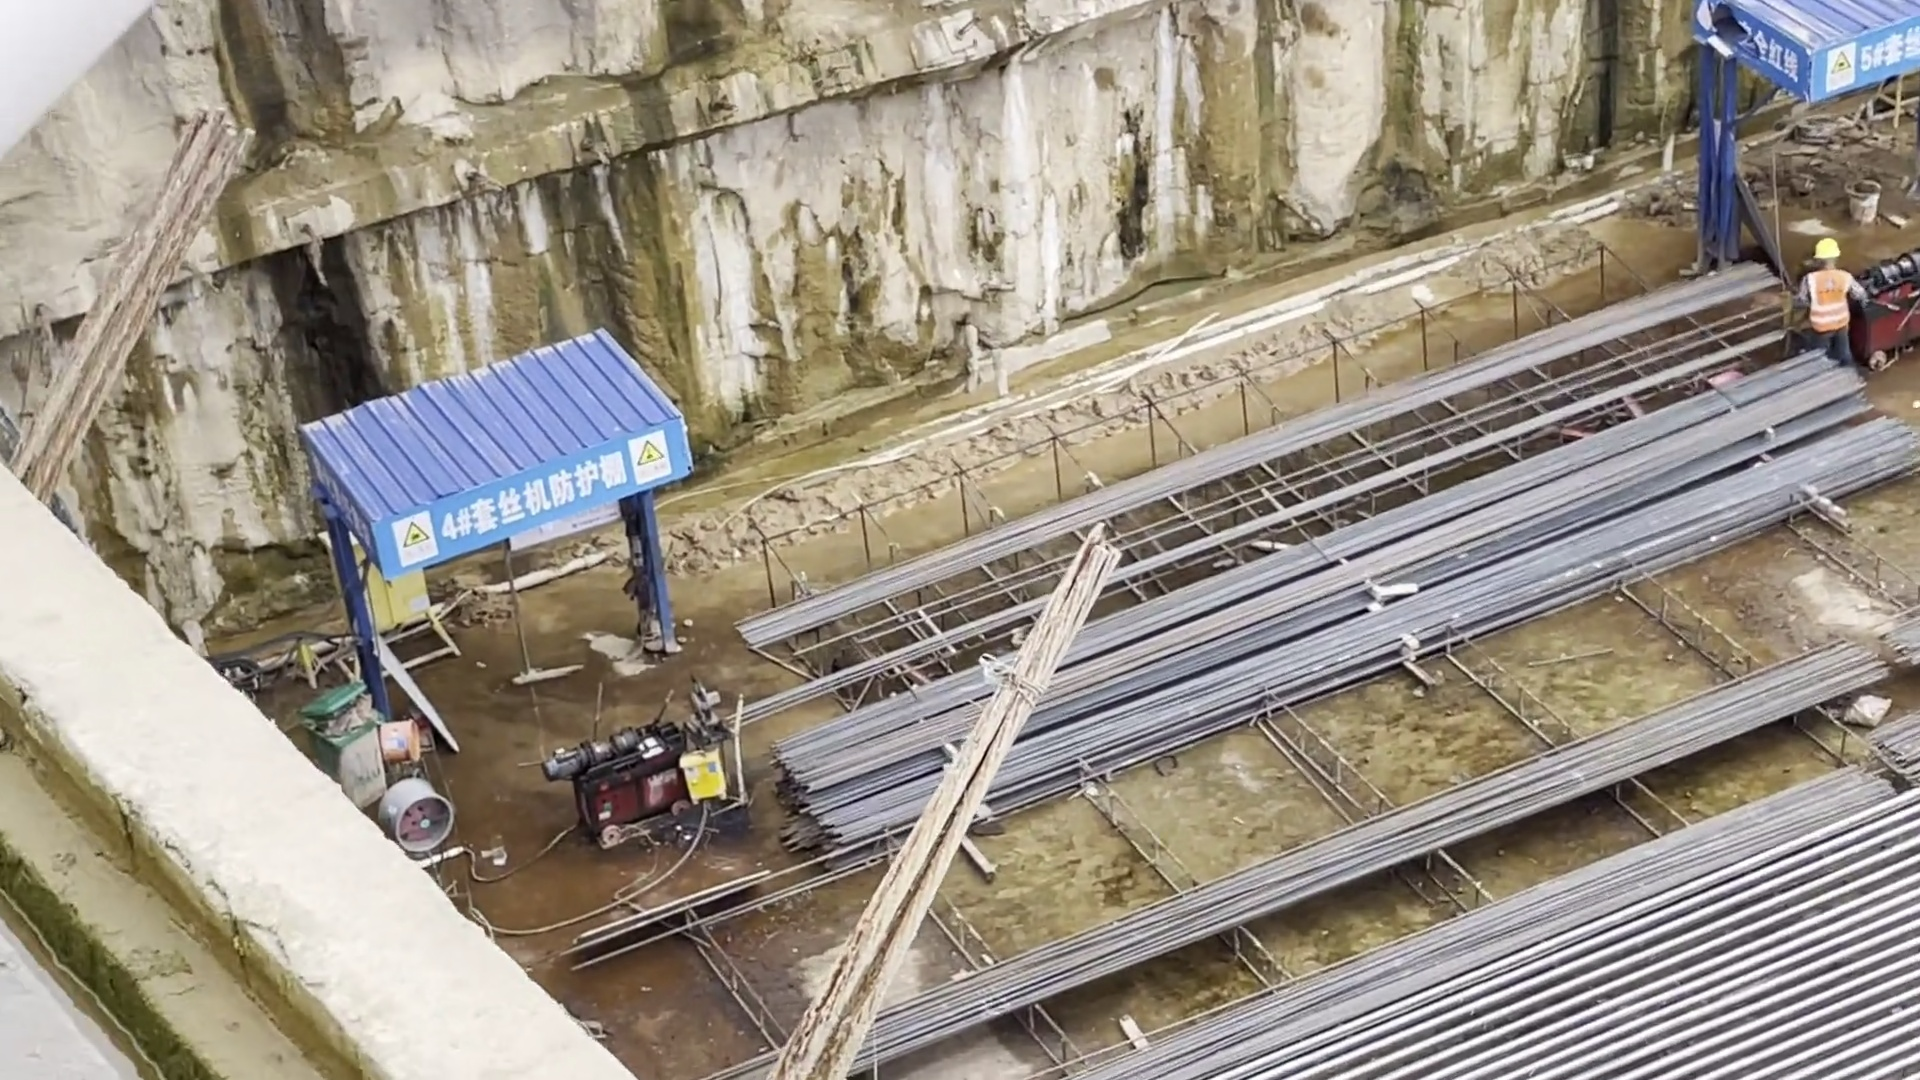helmet: (1813, 239, 1839, 261)
person: (1793, 231, 1858, 354)
rebar: (736, 256, 1880, 1057)
slogan: (384, 420, 683, 580), (1811, 17, 1920, 103)
vest: (1805, 271, 1849, 332)
